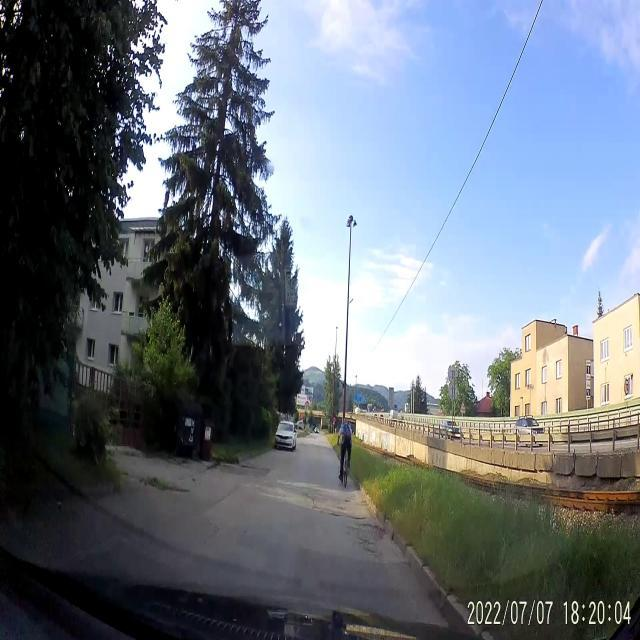Pothole: (354, 521, 390, 565), (235, 463, 272, 479)
